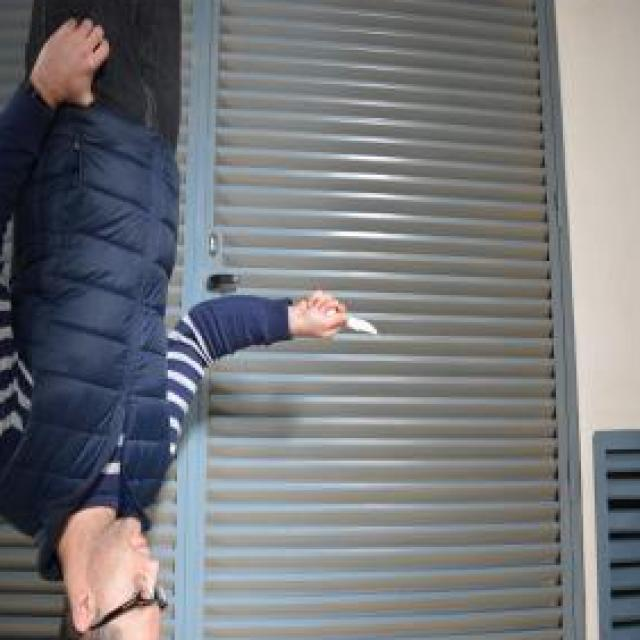knife: (302, 292, 381, 341)
